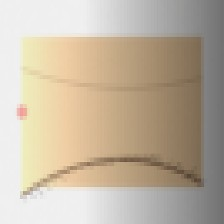pinguecula_lesion: (28, 89, 68, 121)
